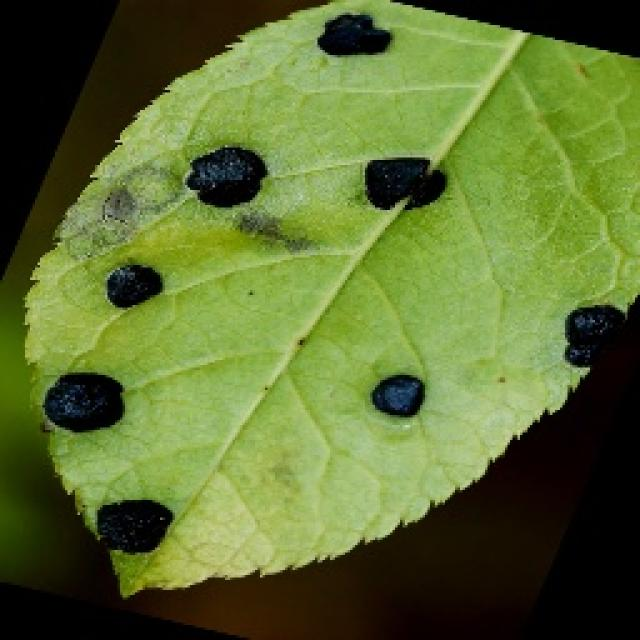Tar_Spot: (74, 37, 620, 555)
